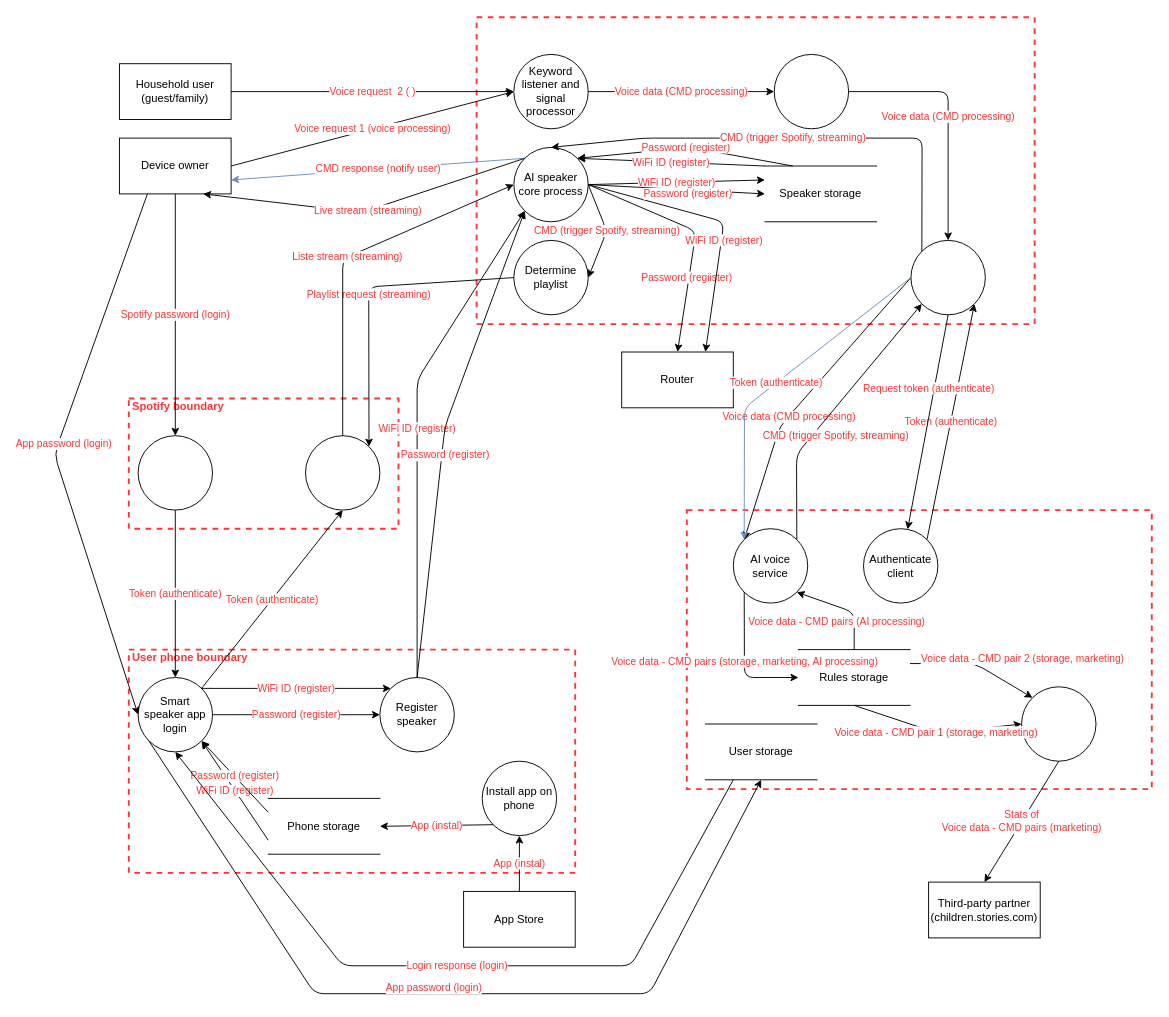
Image size: 1169x1017. Some labels were removed from this diagram. The box of each missing label's shape, as (x1, y1, x2, y2) in pixels:
Authenticate Spotify user: (137, 435, 213, 510)
Communication handeler: (910, 239, 985, 315)
Provider boundary: (685, 509, 1152, 790)
Send interpreted command: (773, 53, 849, 129)
Streaming API: (305, 435, 380, 510)
Third-party exposed service: (1021, 686, 1096, 761)
User home device boundary: (475, 16, 1035, 325)
